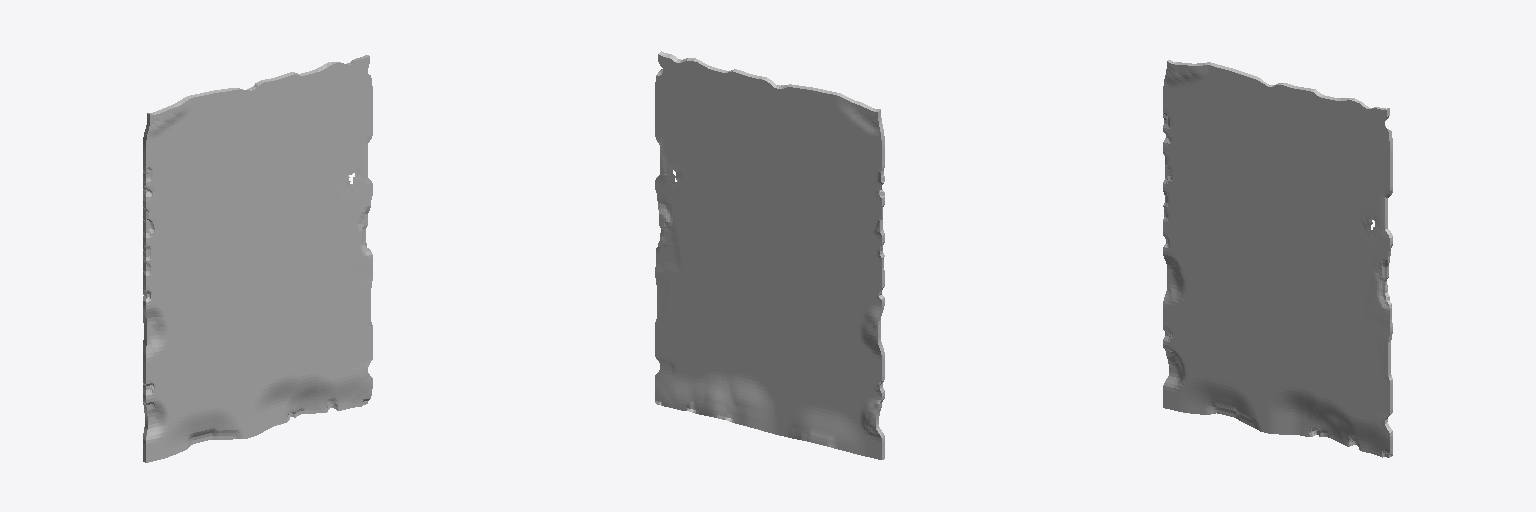
The model's file is letrero2.obj.
3 renders of one model, left to right at view 1: azimuth 30°, elevation 25°; view 2: azimuth 150°, elevation 25°; view 3: azimuth 330°, elevation 25°, orthographic.
Visible parts, largest first — view 1: Plane_Plane.001; view 2: Plane_Plane.001; view 3: Plane_Plane.001.
Boxes of the visible parts, box(x1,y1,x2,y2) form: Plane_Plane.001: box(143, 55, 372, 462); Plane_Plane.001: box(655, 51, 884, 459); Plane_Plane.001: box(1163, 60, 1392, 457).
Bounding box in the file's own units: 2 × 2.97 × 0.1321.